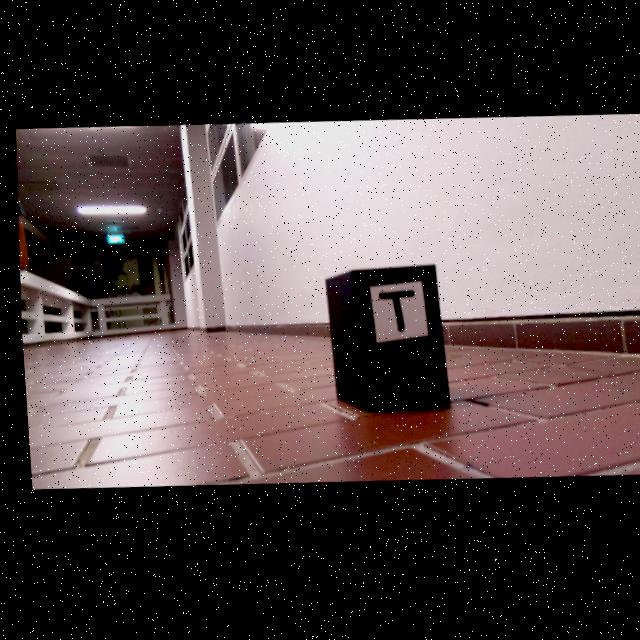T: (374, 295, 412, 336)
